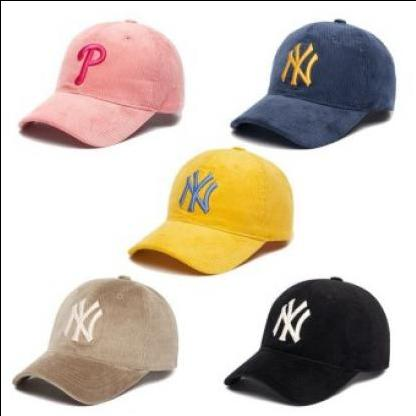cap: (112, 137, 310, 276), (10, 271, 186, 409), (15, 14, 187, 152), (226, 16, 398, 151), (219, 274, 391, 409)
